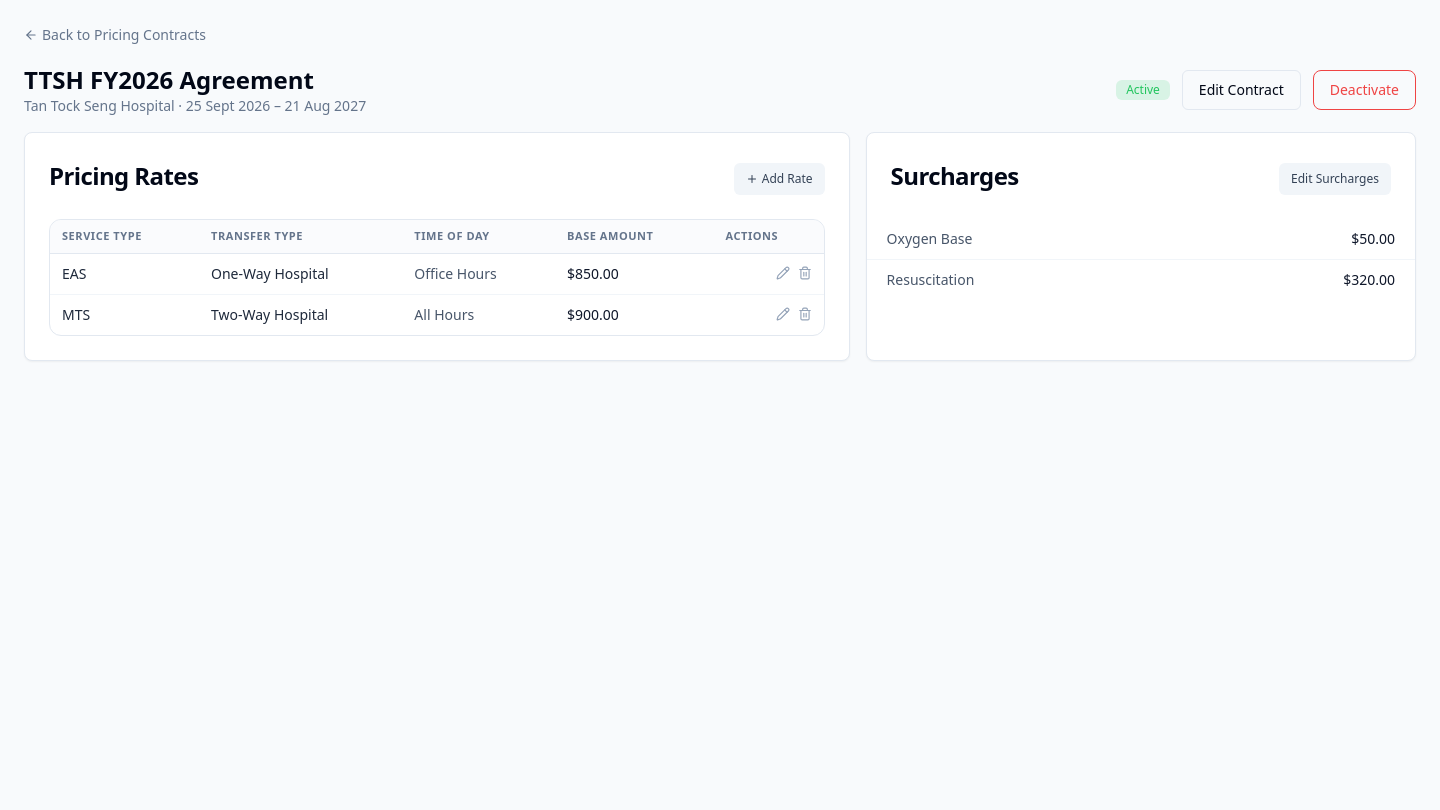
Test: ContractDetailPage - rate management › saving an edited base amount PUTs only base_amount and reloads
Expected: the heading "TTSH FY2026 Agreement" is shown, 24,63 -> 314,96
Click the 6th button: (783, 272) 776,266 -> 790,280
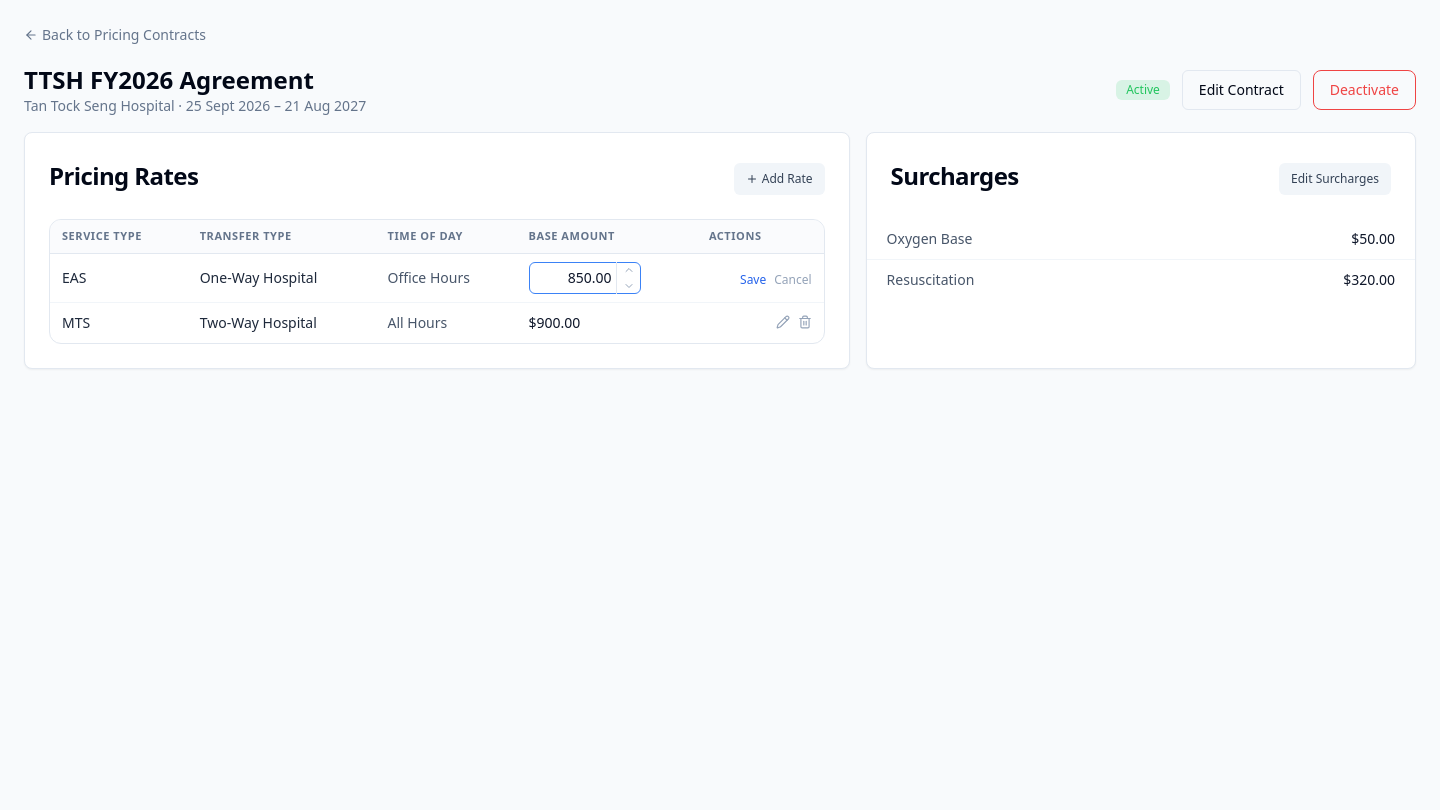
Replace the text in the field named "base amount" with "900": (584, 278) 528,262 -> 640,294
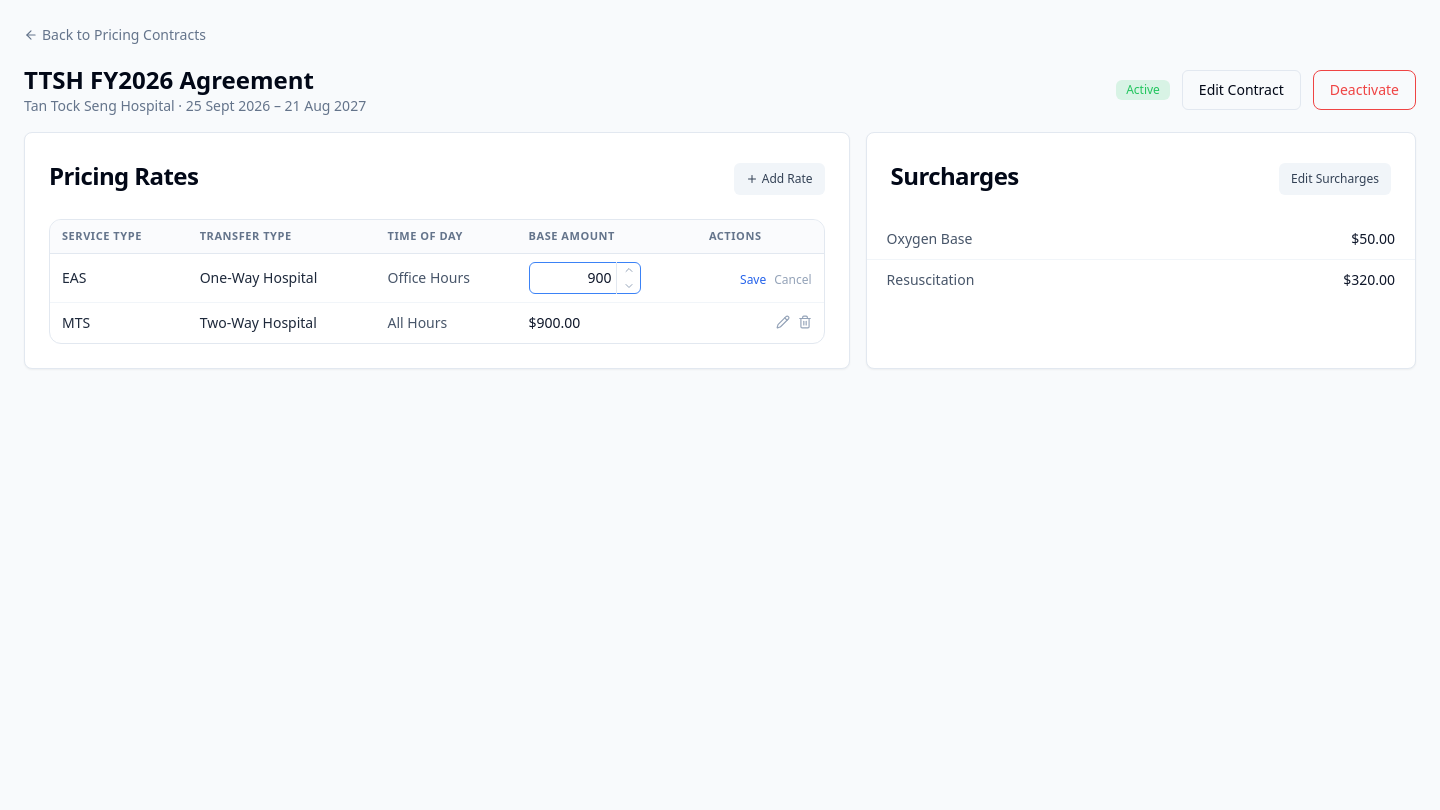
Click the button "Save": (753, 280) 740,272 -> 766,288
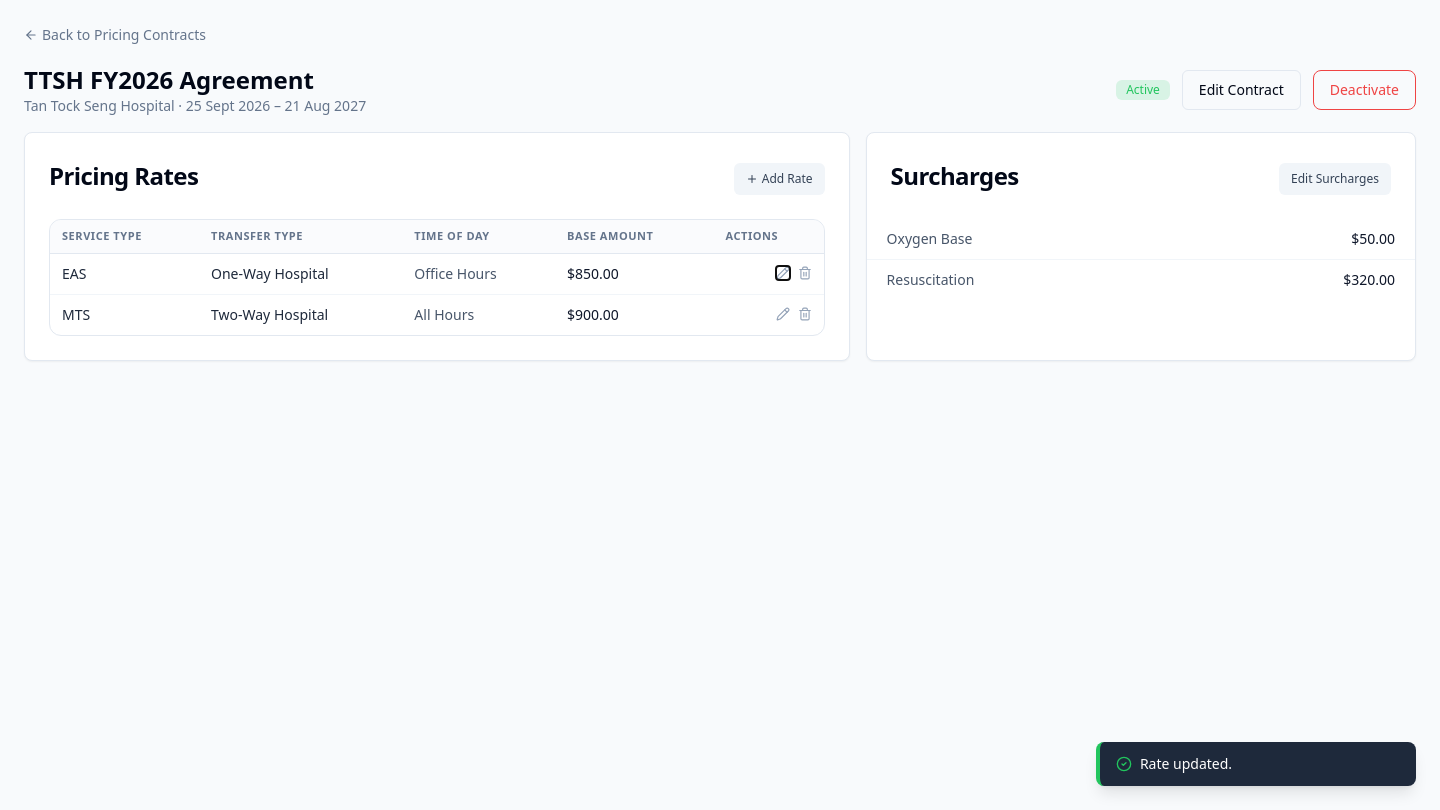
Result: the text "Rate updated." is shown at 1140,754 -> 1232,773
